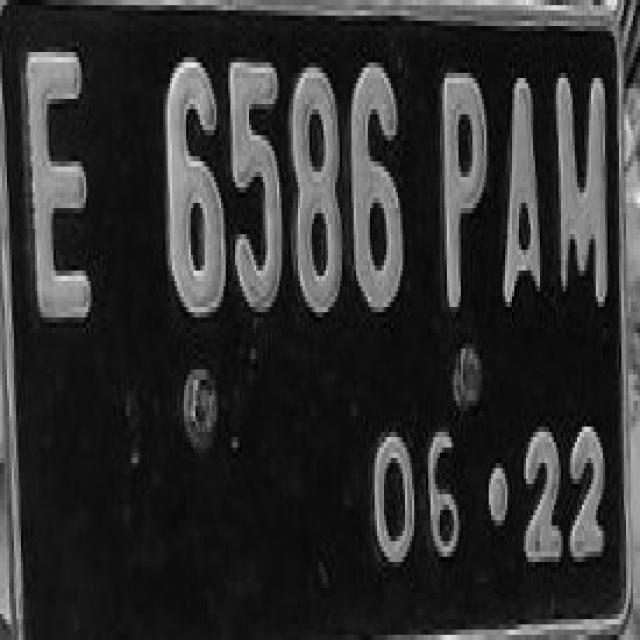license-plat: (7, 5, 629, 635)
